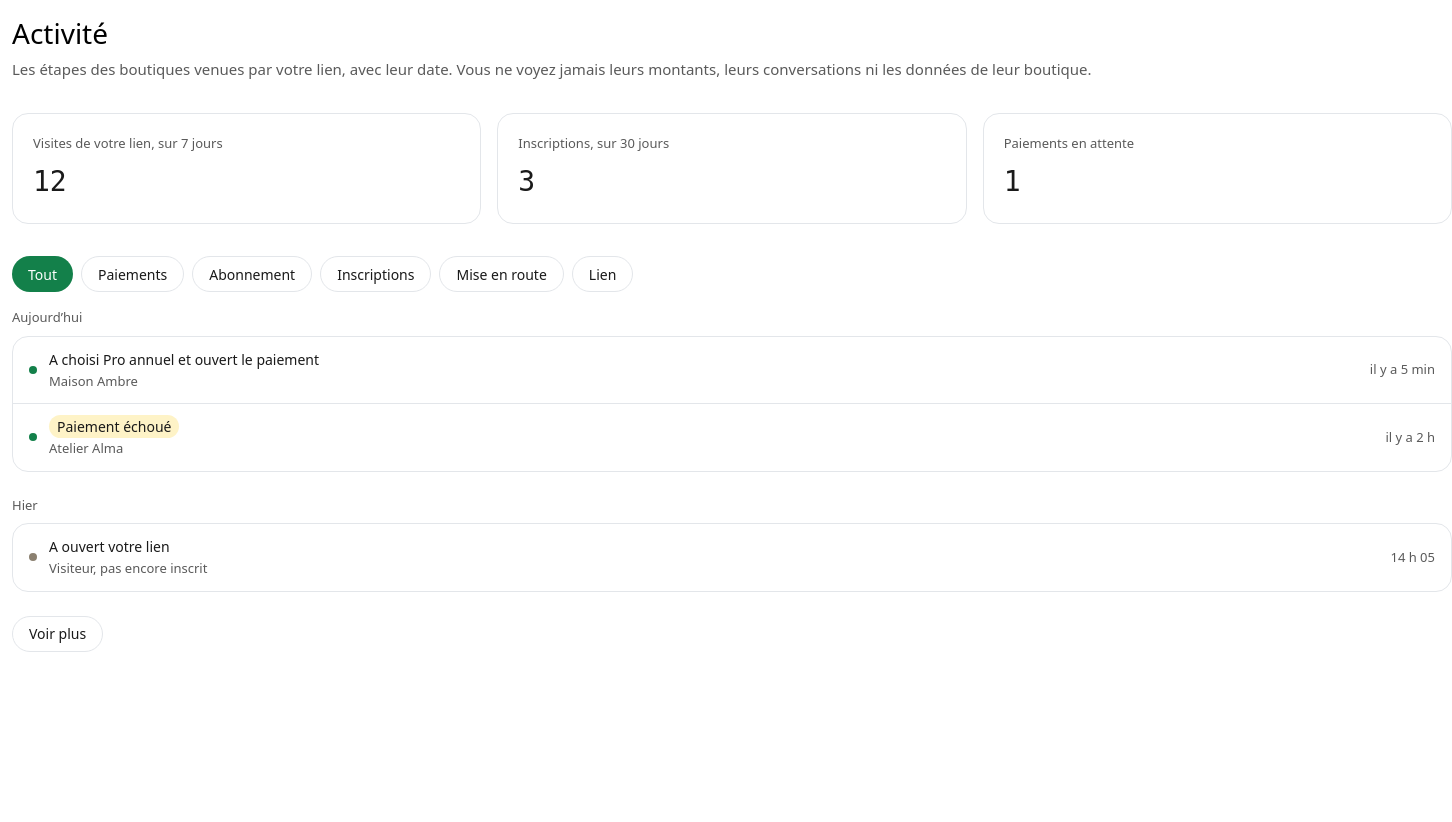
it: ActiviteCloser › « Voir plus » lit la page suivante avec le curseur, puis disparaît
Click the button "Voir plus".
click(58, 634)  # box [12,616,103,652]
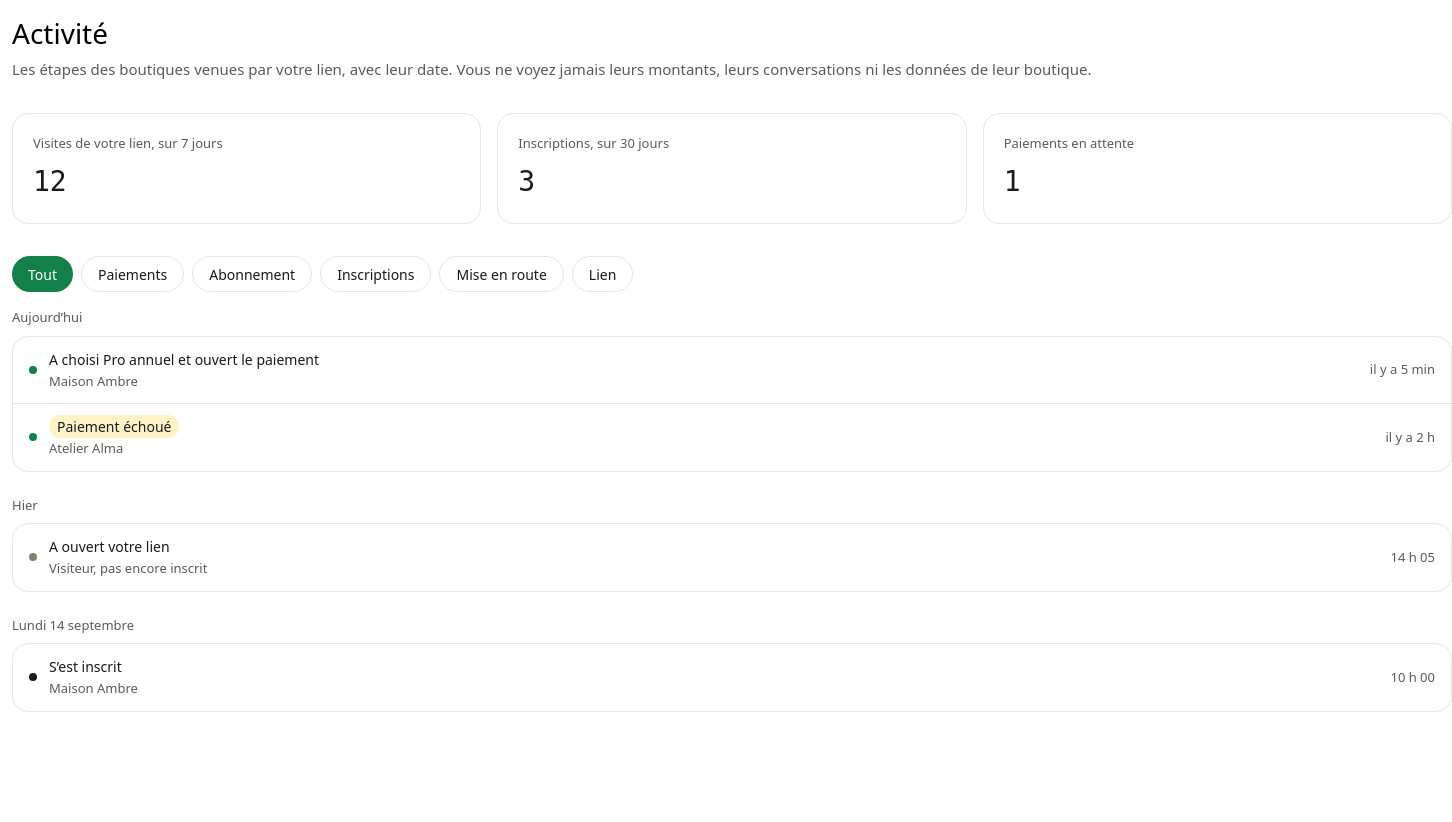
Expected: the number of list items is 4, [13,336,1451,404]; [13,404,1451,470]; [13,524,1451,590]; [13,644,1451,710]
Expected: the list item "S’est inscrit Maison Ambre 10 h 00" is shown, [13,644,1451,710]
